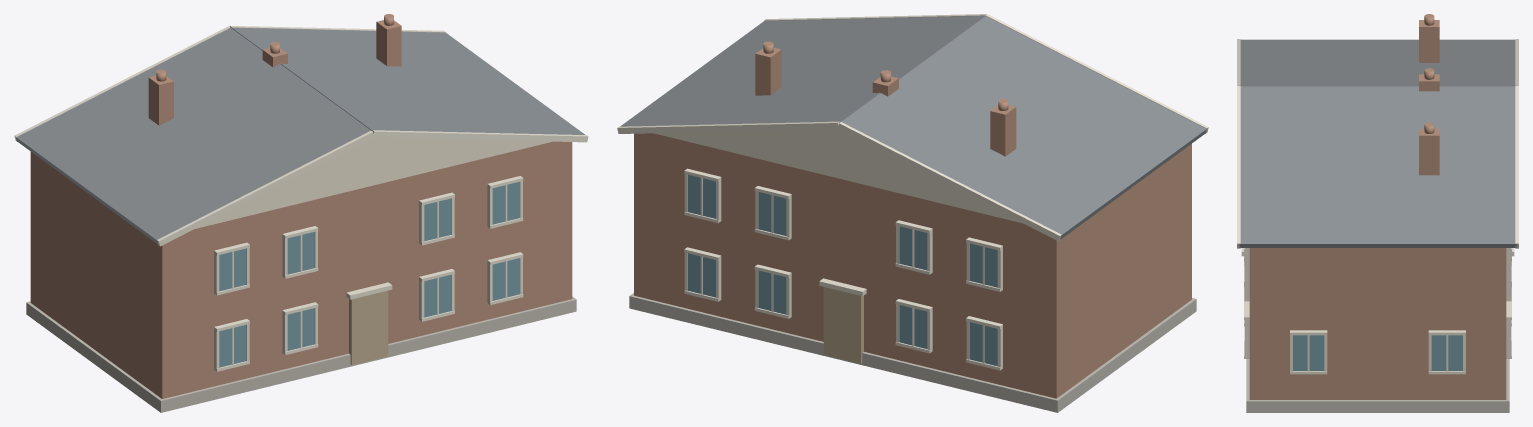
The model's file is tyne-terrace_lod0.glb.
3 views of the same model, side by side, from view 1: azimuth 30°, elevation 25°; view 2: azimuth 150°, elevation 25°; view 3: azimuth 270°, elevation 25° (orthographic). The views are drawn at different scales.
Visible parts, largest first — view 1: RF_Body, RF_Roof.001, RF_Roof, RF_Gable, RF_Foundation, RF_Door.001, RF_Vergeband.001, RF_Vergeband.003, RF_Chimney.001, RF_Chimney, RF_Window.003, RF_Window.004 (+7 smaller); view 2: RF_Body, RF_Roof.001, RF_Roof, RF_Gable.001, RF_Foundation, RF_Door, RF_Vergeband.002, RF_Vergeband, RF_Chimney.001, RF_Chimney, RF_Window.010, RF_Window.009 (+8 smaller); view 3: RF_Roof, RF_Body, RF_Roof.001, RF_Foundation, RF_Window.017, RF_Window, RF_Chimney, RF_Chimney.001, RF_Vergeband, RF_Vergeband.003, RF_Chimney.002.
Part boxes in pixels (box(x1,y1,x2,y2)): RF_Body: box(30, 141, 572, 398); RF_Roof.001: box(16, 28, 370, 244); RF_Roof: box(231, 27, 584, 134); RF_Gable: box(195, 137, 551, 228); RF_Foundation: box(26, 296, 576, 412); RF_Door.001: box(349, 290, 388, 364); RF_Vergeband.001: box(157, 130, 374, 246); RF_Vergeband.003: box(372, 130, 588, 142); RF_Chimney.001: box(148, 75, 173, 125); RF_Chimney: box(376, 20, 401, 66); RF_Window.003: box(287, 308, 314, 350); RF_Window.004: box(287, 232, 314, 274); RF_Body: box(634, 133, 1191, 398); RF_Roof.001: box(842, 16, 1206, 239); RF_Roof: box(620, 15, 985, 126); RF_Gable.001: box(654, 129, 1022, 223); RF_Foundation: box(629, 293, 1196, 412); RF_Door: box(823, 287, 863, 363); RF_Vergeband.002: box(838, 122, 1061, 241); RF_Vergeband: box(617, 121, 839, 133); RF_Chimney.001: box(990, 105, 1016, 156); RF_Chimney: box(755, 47, 781, 95); RF_Window.010: box(969, 243, 997, 287); RF_Window.009: box(969, 322, 997, 366); RF_Roof: box(1239, 86, 1516, 247); RF_Body: box(1249, 248, 1506, 399); RF_Roof.001: box(1239, 39, 1516, 86); RF_Foundation: box(1246, 359, 1509, 412); RF_Window.017: box(1293, 335, 1324, 370); RF_Window: box(1431, 335, 1462, 370); RF_Chimney: box(1419, 128, 1439, 175); RF_Chimney.001: box(1419, 20, 1439, 62); RF_Vergeband: box(1515, 86, 1518, 248); RF_Vergeband.003: box(1237, 86, 1240, 248); RF_Chimney.002: box(1419, 74, 1439, 91).
Bounding box in the file's own units: 18.86 × 10.47 × 10.98.
